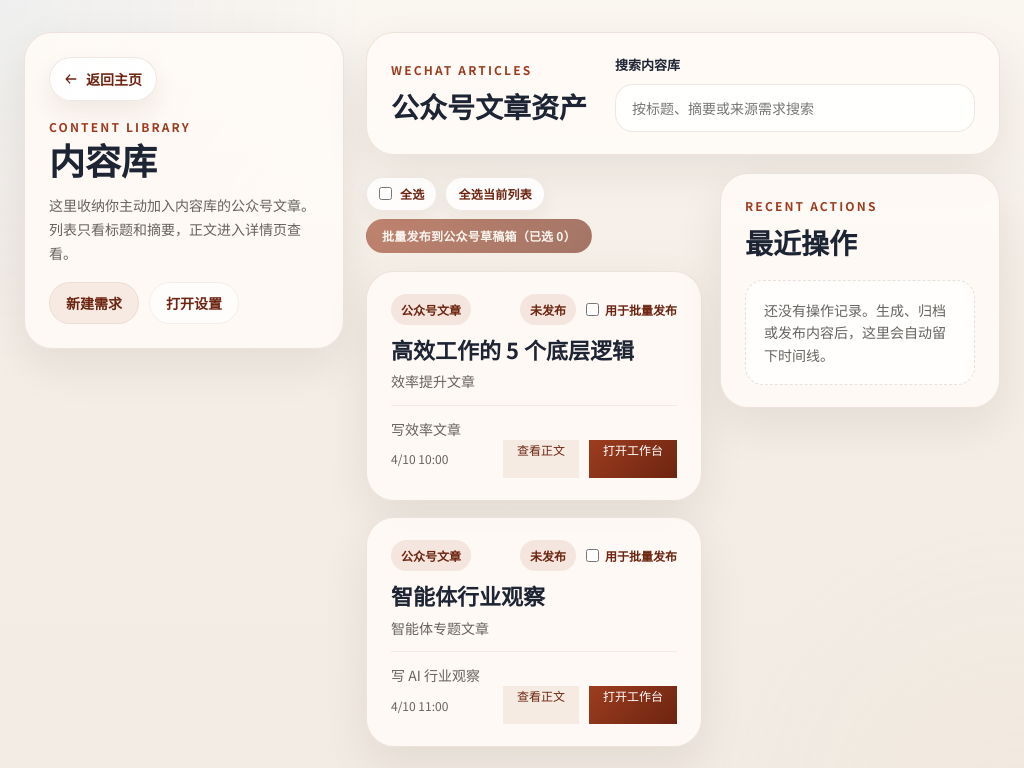
Test: WechatLibraryShell › supports master select-all checkbox in batch controls
Click the checkbox named "全选用于批量发布" at (386, 194), box [379, 187, 392, 200]
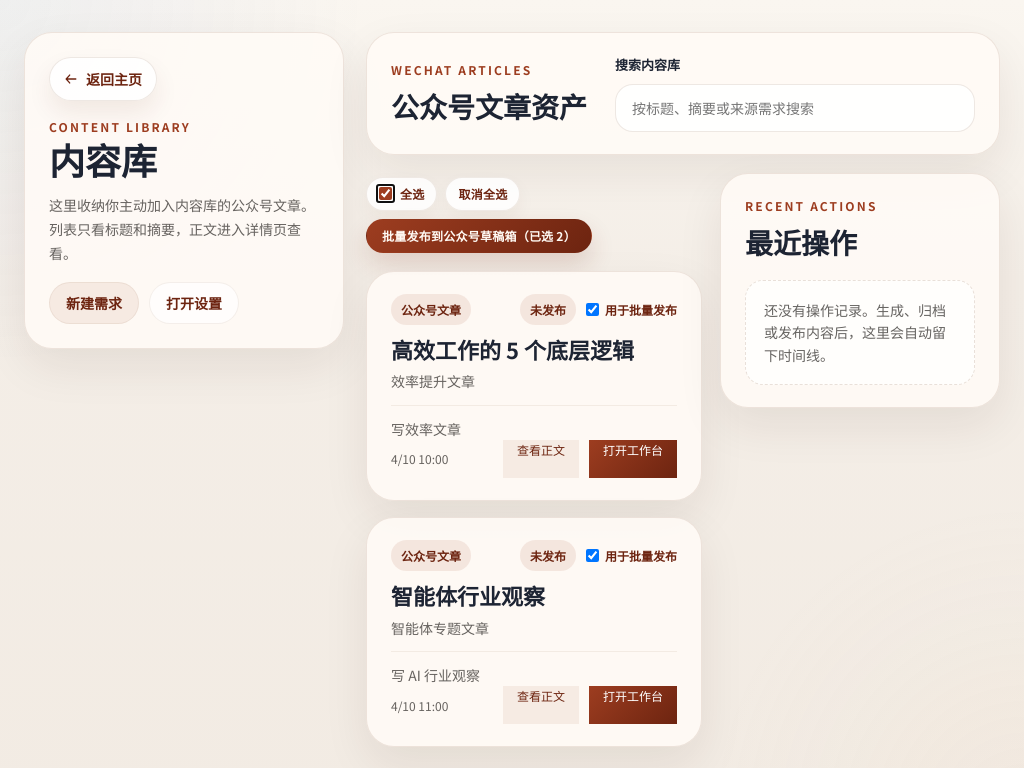
Now the checkbox named "勾选发布 高效工作的 5 个底层逻辑" is checked, box [586, 303, 599, 316]
Now the checkbox named "勾选发布 智能体行业观察" is checked, box [586, 549, 599, 562]
Click the checkbox named "全选用于批量发布" at (386, 194), box [379, 187, 392, 200]
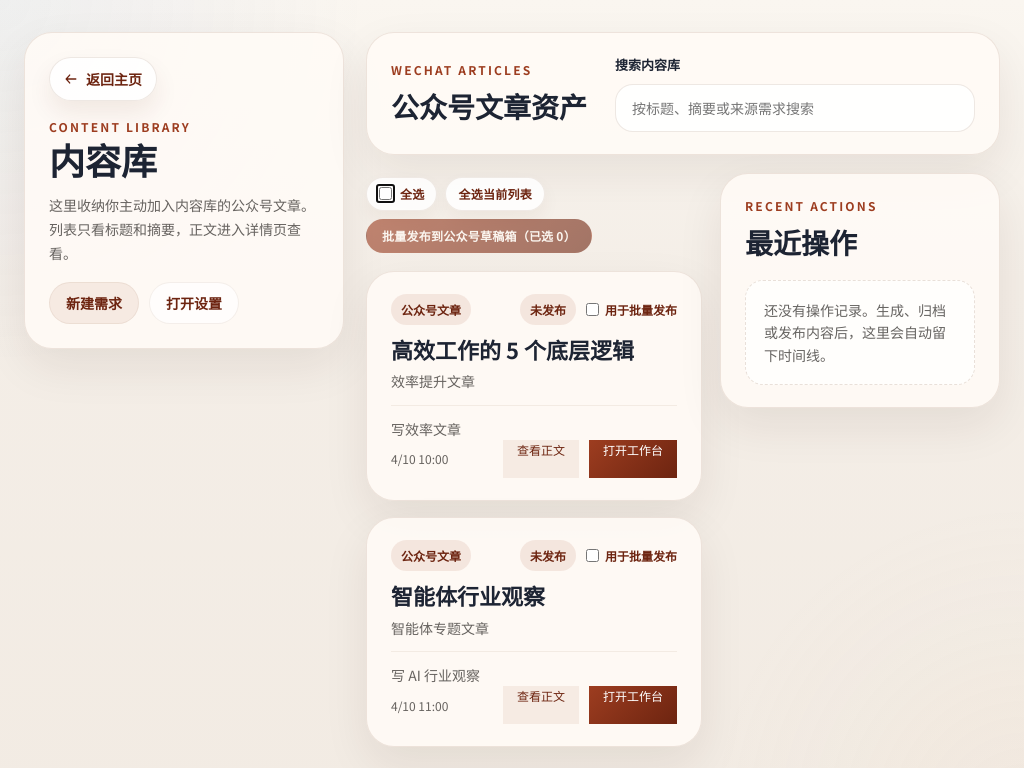
Now the checkbox named "勾选发布 高效工作的 5 个底层逻辑" is not checked, box [586, 303, 599, 316]
Now the checkbox named "勾选发布 智能体行业观察" is not checked, box [586, 549, 599, 562]
